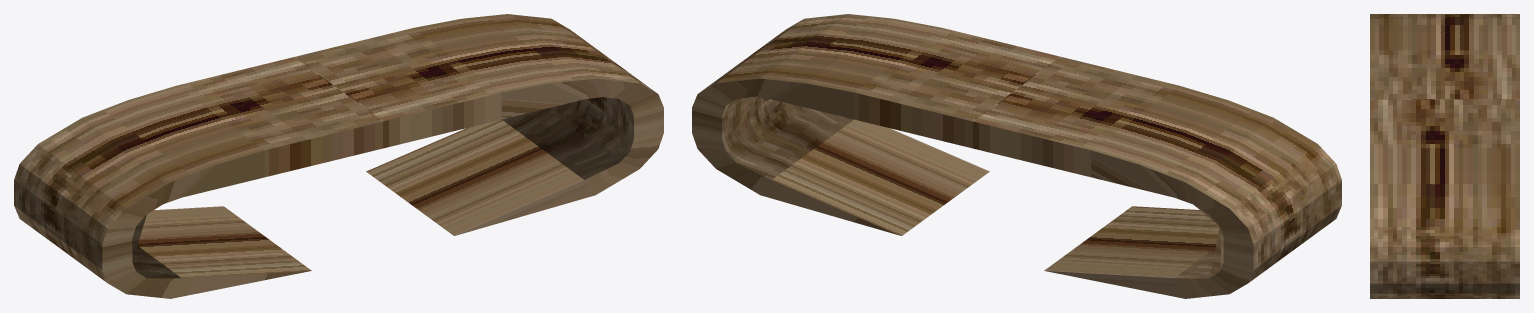
Rendered from table.glb.
3 renders of one model, left to right at view 1: azimuth 30°, elevation 25°; view 2: azimuth 150°, elevation 25°; view 3: azimuth 270°, elevation 25°, orthographic. The views are drawn at different scales.
Visible parts, largest first — view 1: Cube; view 2: Cube; view 3: Cube.
Boxes of the visible parts, x1,y1,x2,y2 form: Cube: [14, 14, 663, 298]; Cube: [692, 14, 1341, 298]; Cube: [1370, 14, 1519, 298].
Size of the model in its own units: 14.58 by 3.28 by 3.97.
Materials: 1 (1 with a texture image).
